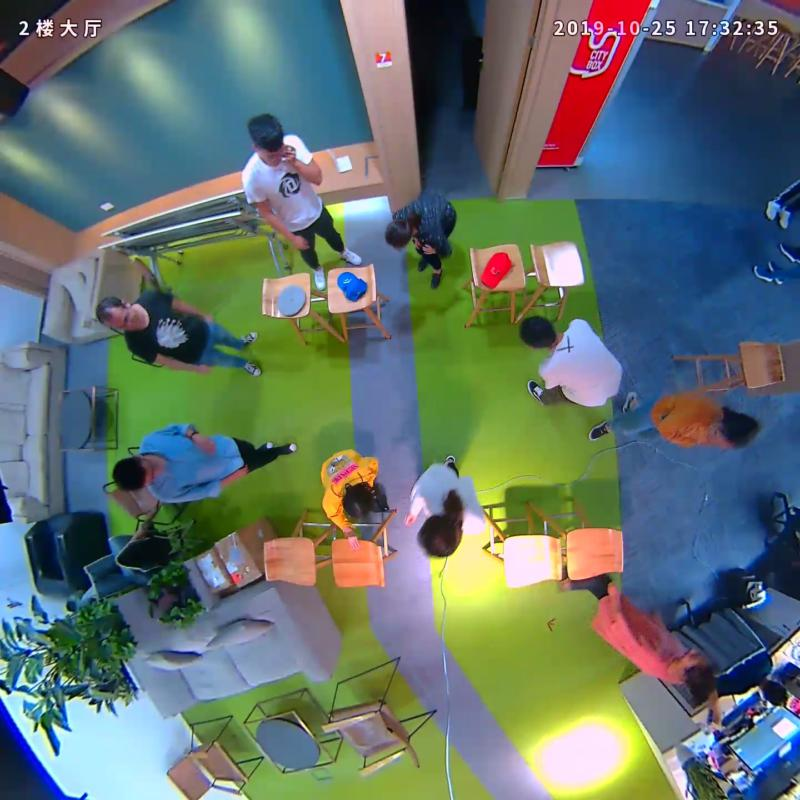head: (708, 405, 770, 454), (245, 111, 294, 170), (413, 512, 470, 562), (669, 644, 717, 703), (105, 452, 162, 495), (90, 292, 141, 337), (336, 478, 381, 522), (512, 313, 564, 350), (381, 213, 415, 254)
